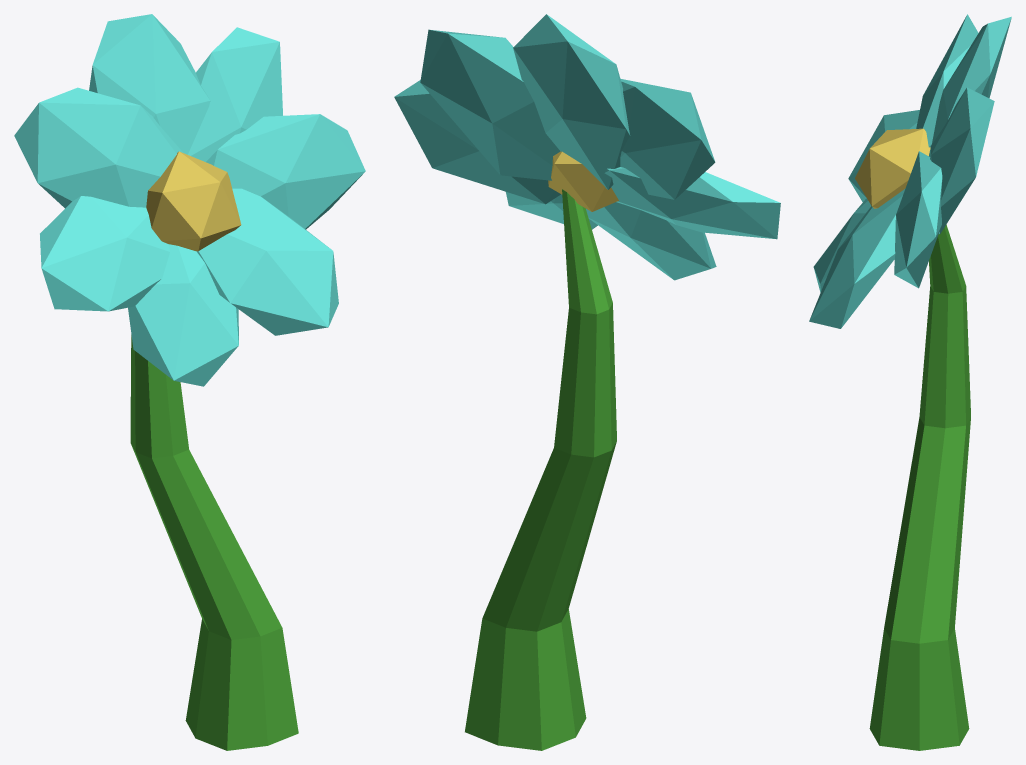
Rendered from flower_2.fbx.
3 renders of one model, left to right at view 1: azimuth 30°, elevation 25°; view 2: azimuth 150°, elevation 25°; view 3: azimuth 270°, elevation 25°, orthographic. The views are drawn at different scales.
Parts seen in each view (by area): view 1: Cube; view 2: Cube; view 3: Cube.
Part boxes in pixels (x1,y1,x2,y2): Cube: [14, 14, 365, 750]; Cube: [394, 14, 780, 750]; Cube: [809, 14, 1011, 750].
Size of the model in its own units: 682 by 1359 by 368.
